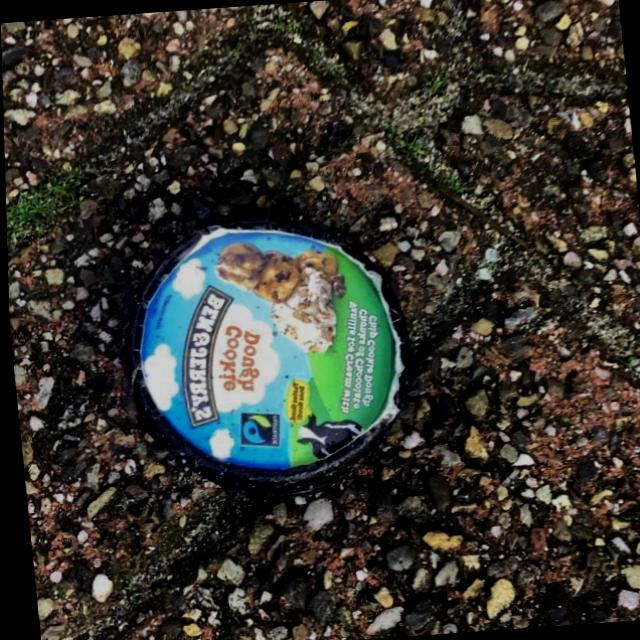Paper: (102, 201, 425, 505)
